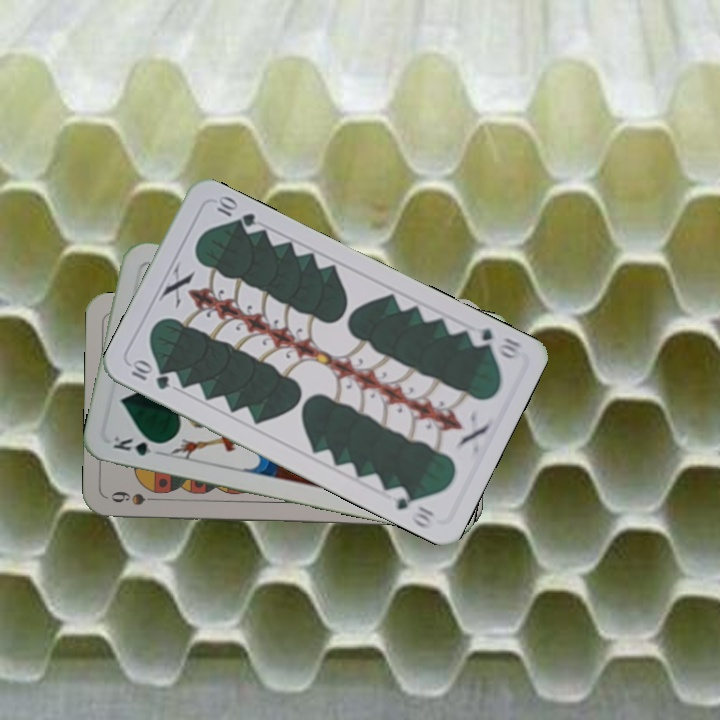G10: (464, 322, 526, 362), (126, 356, 173, 393)
GK: (109, 431, 167, 458)
S9: (107, 487, 166, 508)
